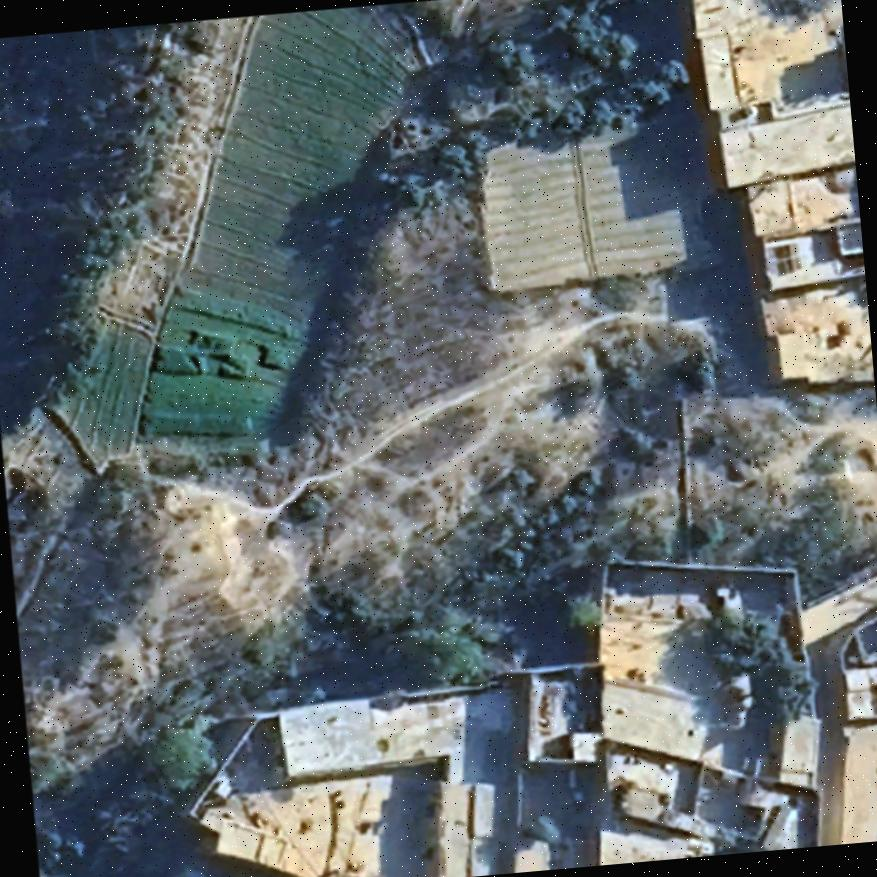Solarpanel: (762, 238, 802, 279)
